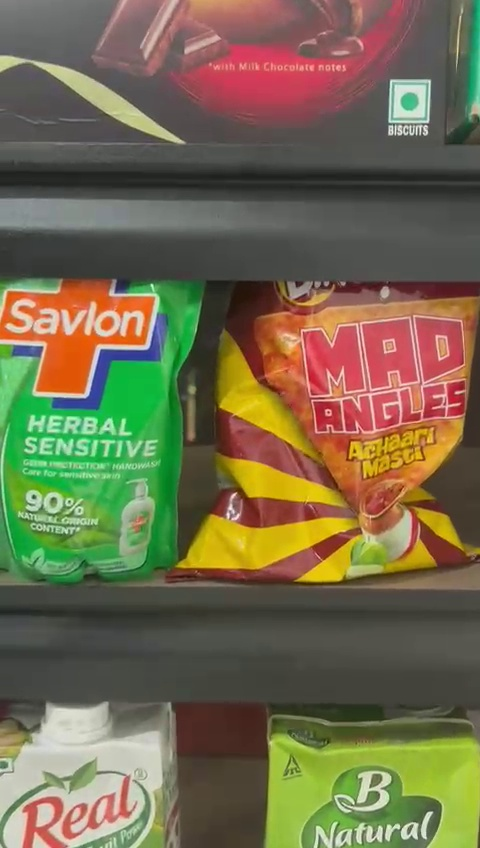Bingo Mad Angles: (190, 286, 470, 563)
